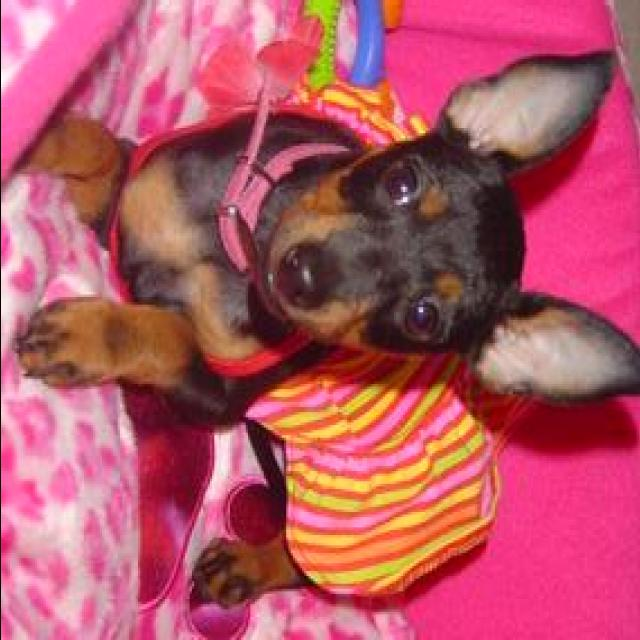toy_terrier: (15, 48, 638, 614)
